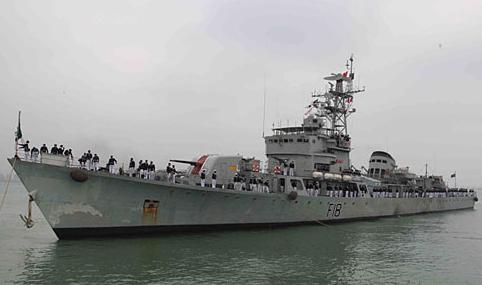warship: (10, 49, 479, 240)
